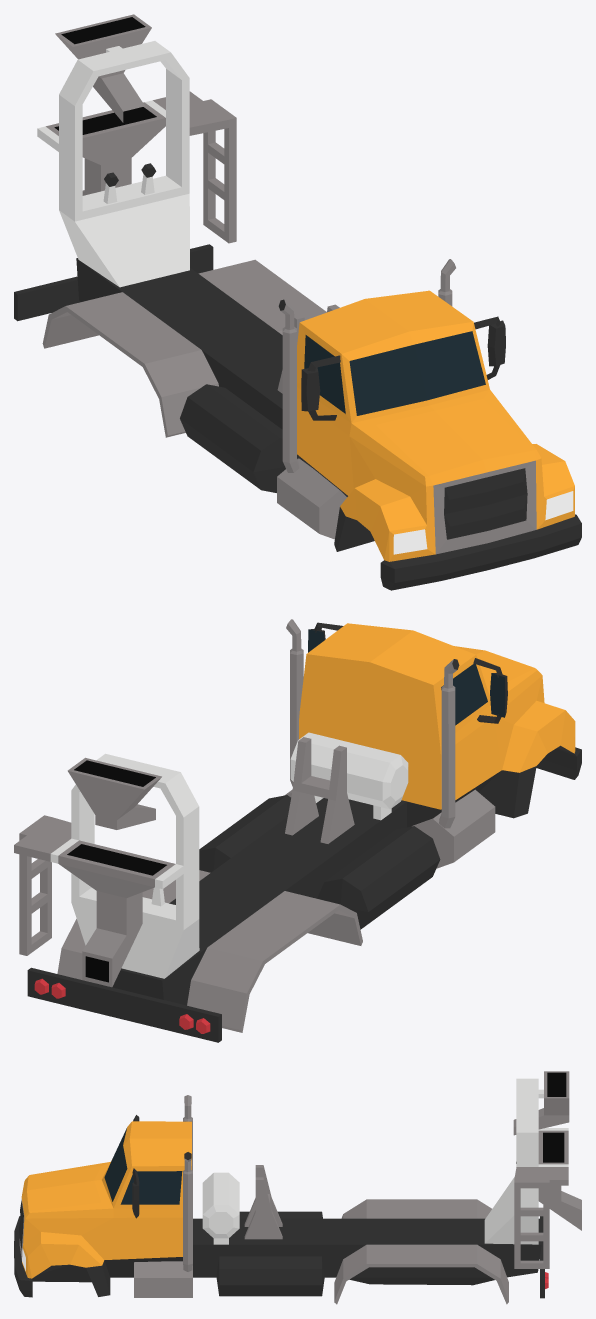
File: car-truck-cement-base.glb
3 views of the same model, one above another, from view 1: azimuth 30°, elevation 25°; view 2: azimuth 150°, elevation 25°; view 3: azimuth 270°, elevation 25° (orthographic). The views are drawn at different scales.
Parts seen in each view (by area): view 1: car-truck-cement-base; view 2: car-truck-cement-base; view 3: car-truck-cement-base.
Part boxes in pixels (x1,y1,x2,y2): car-truck-cement-base: (14, 14, 581, 590); car-truck-cement-base: (14, 619, 581, 1042); car-truck-cement-base: (14, 1071, 581, 1304).
Bounding box in the file's own units: 2.59 × 3.33 × 8.93.
Materials: 1 (1 with a texture image).
